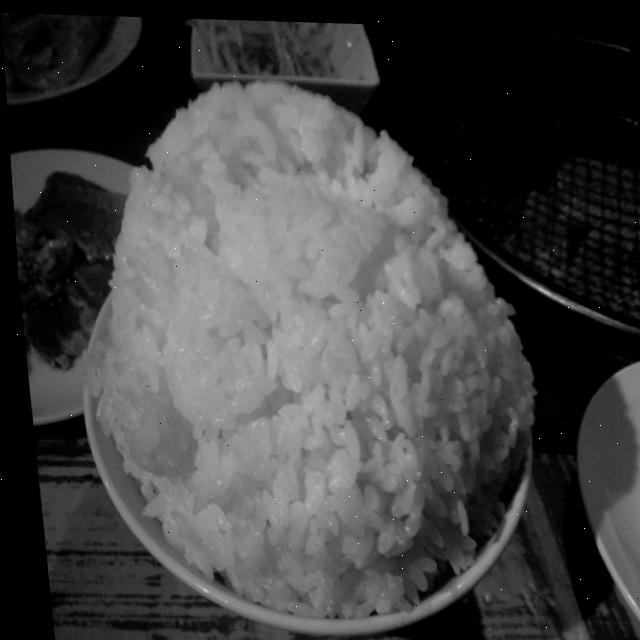米饭主食: (2, 35, 591, 640)
